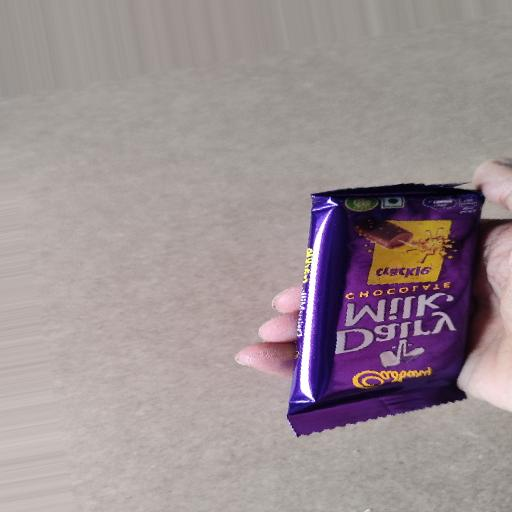Cadbury Dairy Milk Crackle: (236, 162, 501, 457)
